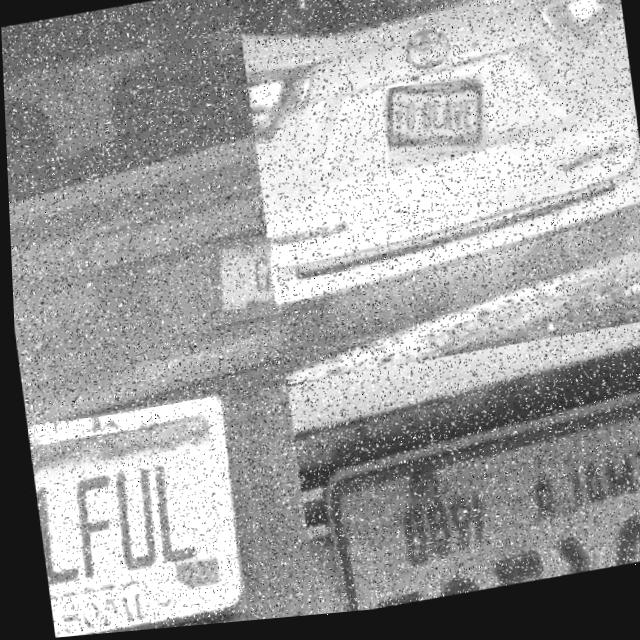LicensePlate: (27, 403, 237, 638), (343, 498, 640, 617), (387, 95, 483, 161), (208, 241, 270, 327)
